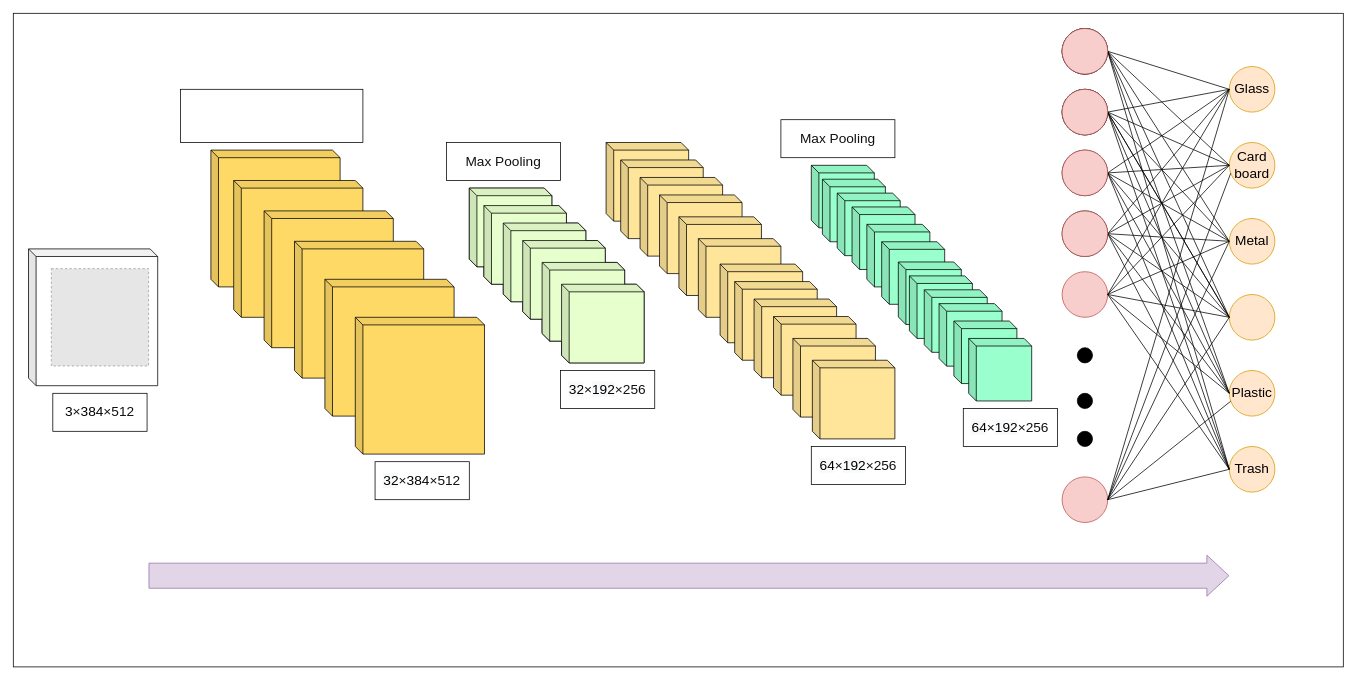
Some shapes in this 1357 by 680 pixel diagram are drawn without their labels. Grey dashed boxes stand in for pictures. The shapes that lost their labels are listed below. From the top down, each one's centre as x and y in pixels, then its label:
point 271,115: Convolution ReLU activation function
point 1252,317: Paper
